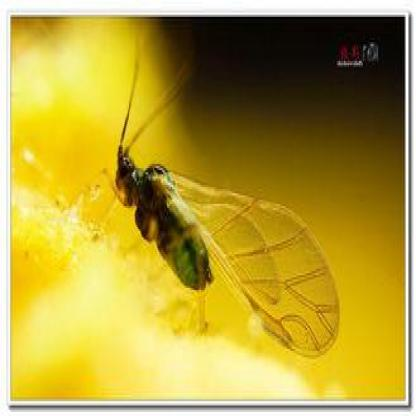aphid: (95, 38, 338, 366)
